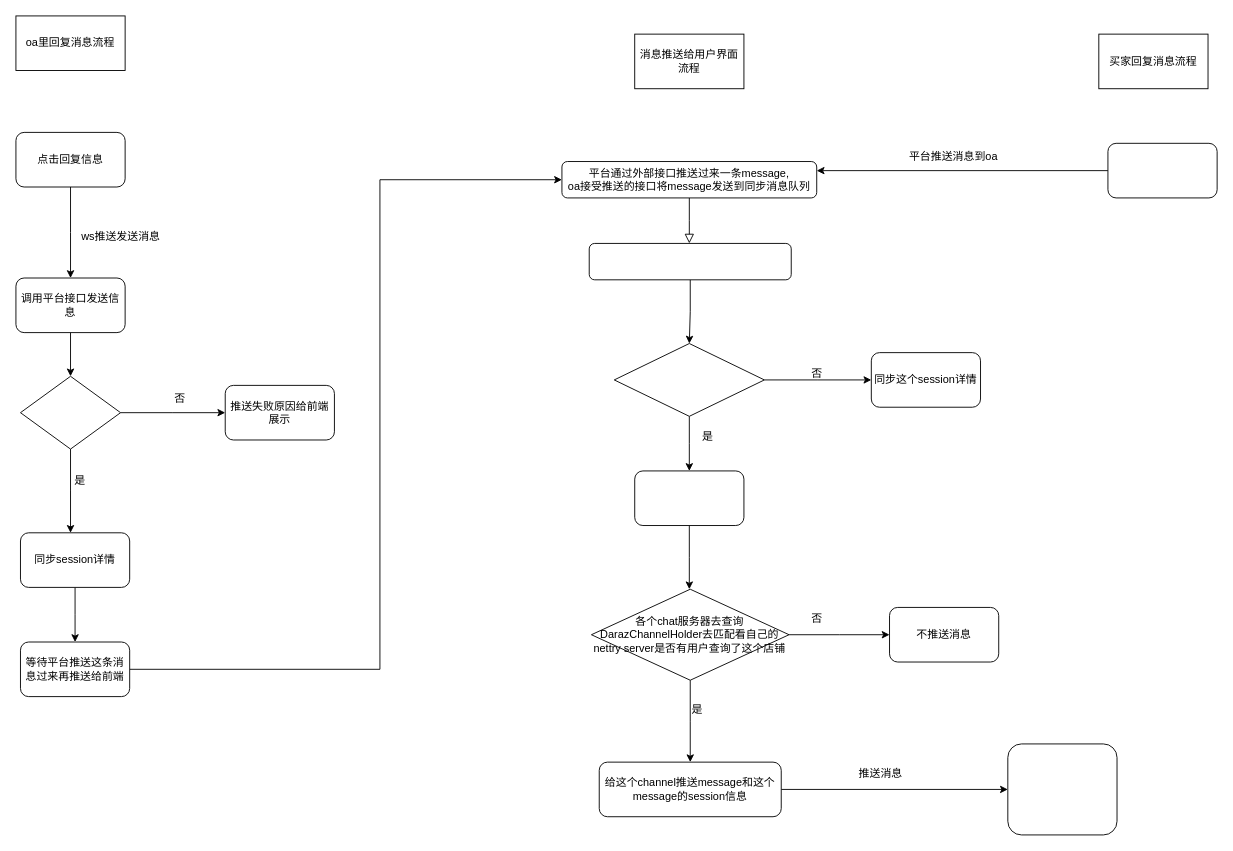
Image size: 1233x851. Some labels were removed from this diagram. Here are the shapes that lost their labels. From the top down, the centre of each, then its label:
the point at 1162,170: 买家在平台输入消息
the point at 689,261: 新增或修改message数据入库
the point at 688,379: message对应的session是否落库了
the point at 70,412: 是否 发送成功
the point at 689,498: 发送message到推送ws给前端的交换器
the point at 1062,789: 用户界面
